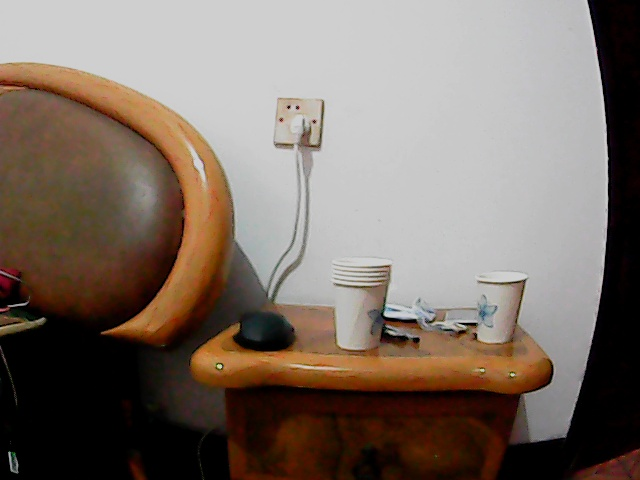cup: (331, 257, 392, 354)
mouse: (232, 305, 295, 352)
